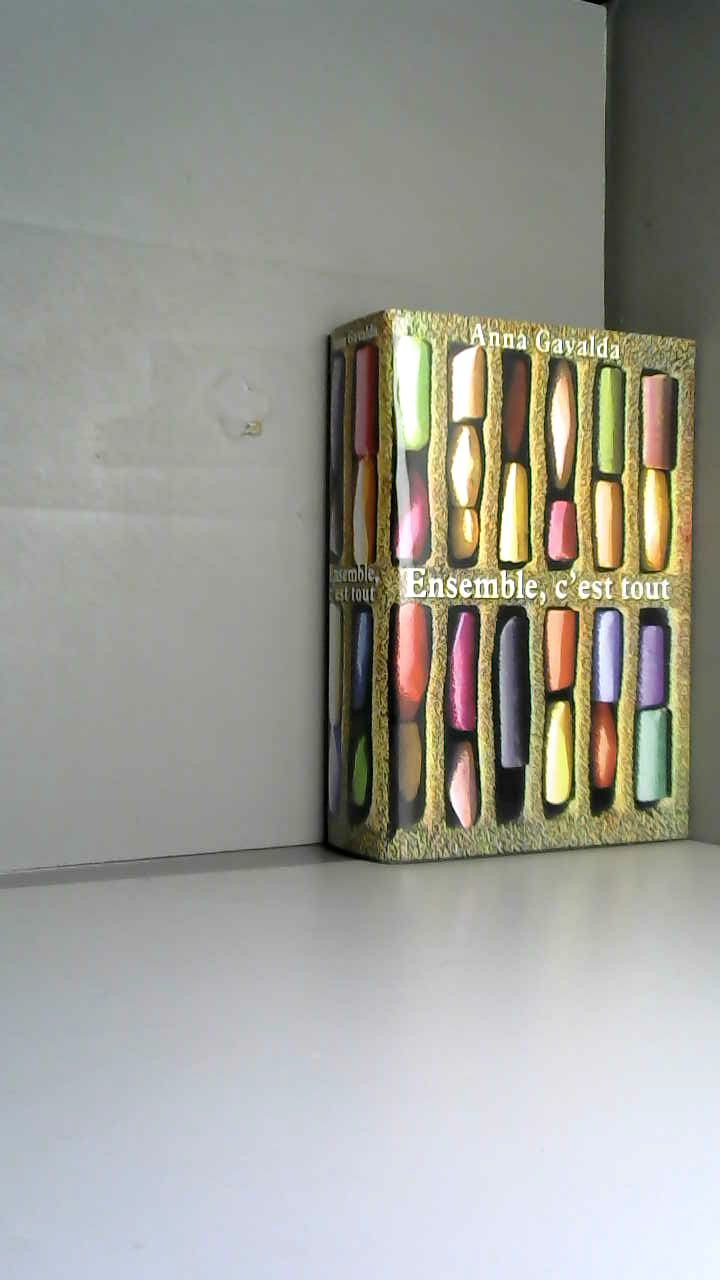book: (290, 280, 717, 908)
